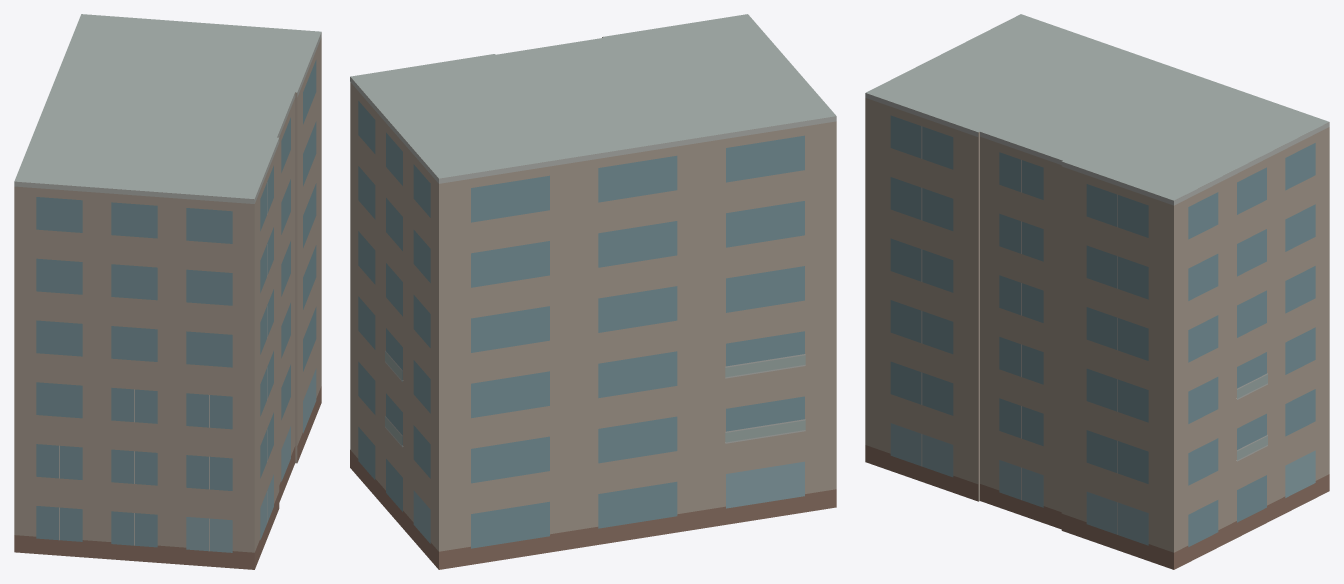
Rendered from survey-upis-32754217.glb.
3 renders of one model, left to right at view 1: azimuth 30°, elevation 25°; view 2: azimuth 150°, elevation 25°; view 3: azimuth 270°, elevation 25°, orthographic. The views are drawn at different scales.
Parts seen in each view (by area): view 1: survey-upis-32754217.tmp; view 2: survey-upis-32754217.tmp; view 3: survey-upis-32754217.tmp.
Boxes of the visible parts, x1=… form: survey-upis-32754217.tmp: x1=14, y1=14, x2=321, y2=569; survey-upis-32754217.tmp: x1=350, y1=14, x2=836, y2=569; survey-upis-32754217.tmp: x1=865, y1=14, x2=1329, y2=569.
Bounding box in the file's own units: 19.86 × 18.3 × 20.86.
